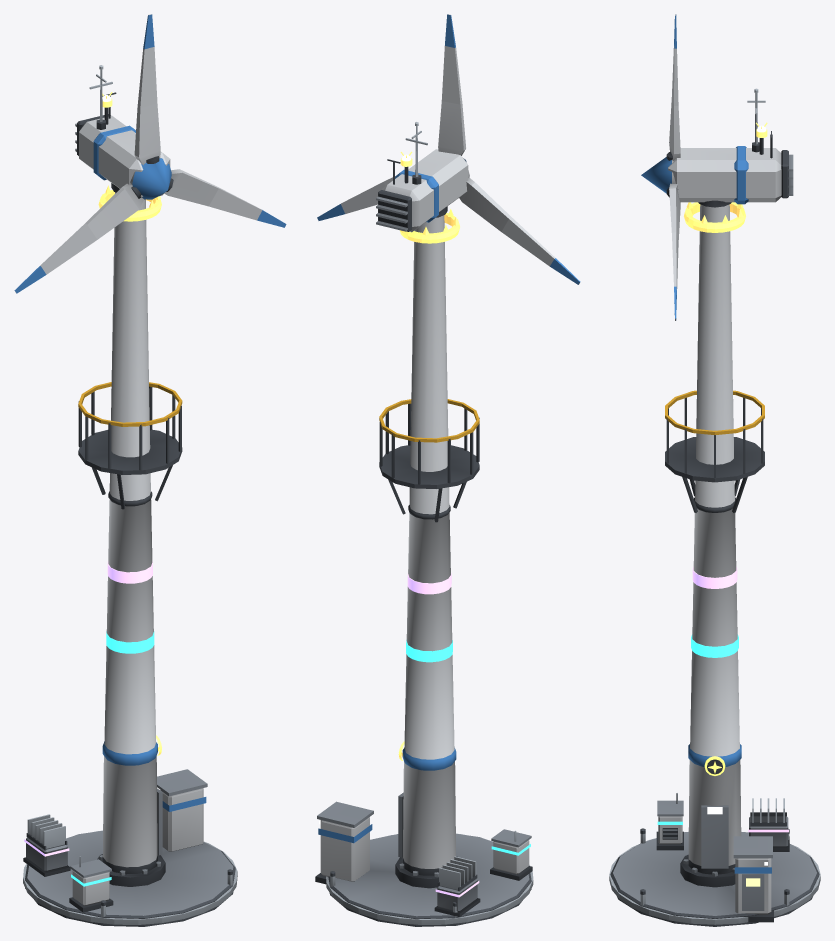
File: wind_turbine_l.glb
The picture shows the model from 3 angles, left to right: view 1: azimuth 30°, elevation 25°; view 2: azimuth 150°, elevation 25°; view 3: azimuth 270°, elevation 25°; orthographic projection. The views are drawn at different scales.
Parts seen in each view (by area): view 1: Base, Rotor, L4, L3, L2, L5; view 2: Base, Rotor, L4, L3, L2, L5; view 3: Base, Rotor, L2, L3, L4, L5.
Part boxes in pixels (<box>): Base: <box>25,92,235,926</box>; Rotor: <box>14,14,286,293</box>; L4: <box>23,561,152,876</box>; L3: <box>69,631,154,912</box>; L2: <box>23,65,237,924</box>; L5: <box>98,92,161,755</box>; Base: <box>315,149,531,926</box>; Rotor: <box>317,14,580,284</box>; L4: <box>407,573,480,916</box>; L3: <box>406,640,532,880</box>; L2: <box>326,122,533,924</box>; L5: <box>398,151,459,760</box>; Base: <box>610,131,819,926</box>; Rotor: <box>641,14,680,320</box>; L2: <box>609,88,820,924</box>; L3: <box>656,634,738,850</box>; L4: <box>692,566,789,851</box>; L5: <box>684,122,767,775</box>.
Size of the model in its own units: 5.32 by 16.52 by 3.65.
